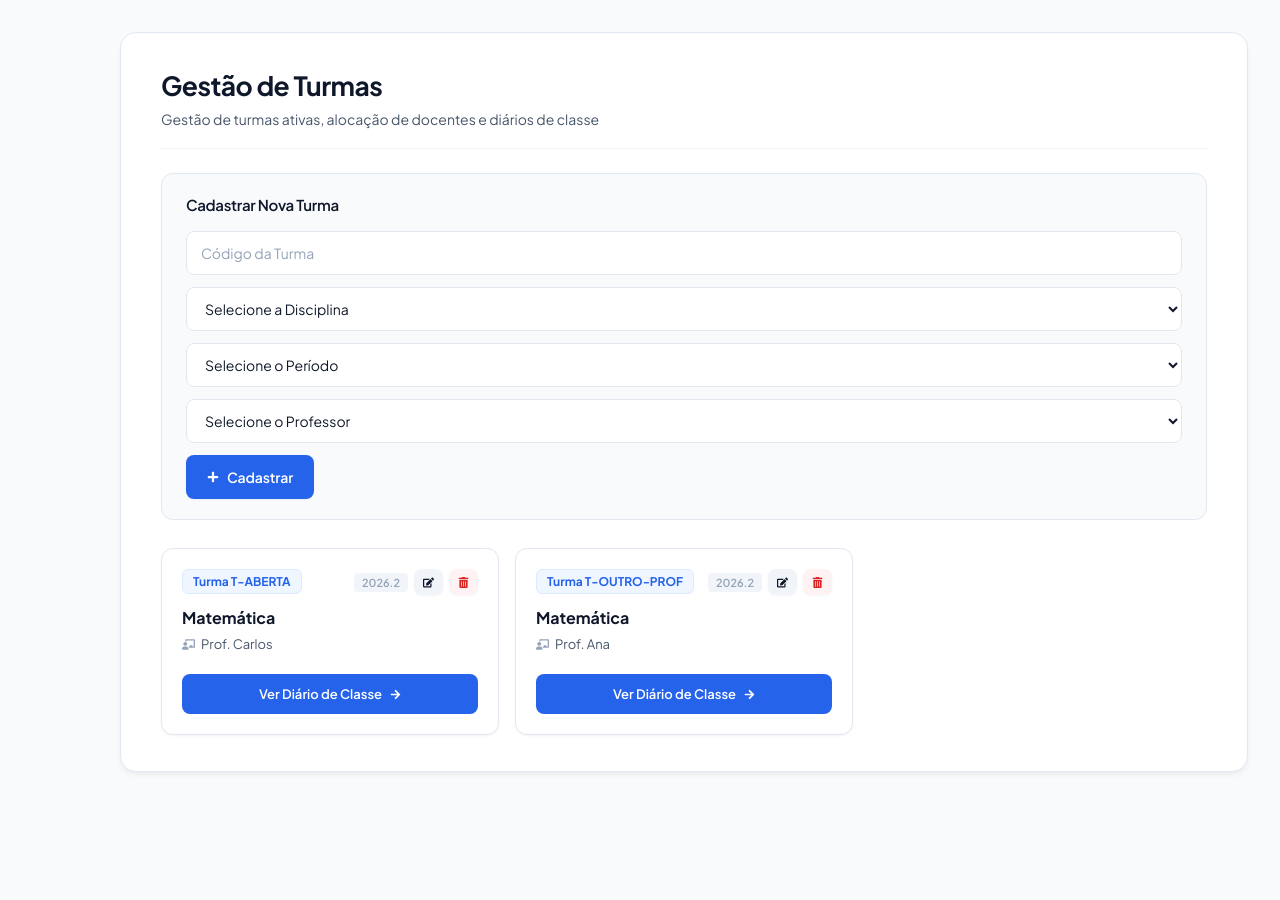
Scenario: Turmas Page › visão ADMIN: deve permitir editar e excluir uma turma existente
Expected: the text "Turma T-ABERTA" is shown, 182,569 -> 302,594
// Editar turma T-ABERTA
Click the button named "Editar turma T-ABERTA" at x=428, y=582, box 414,569 -> 443,595
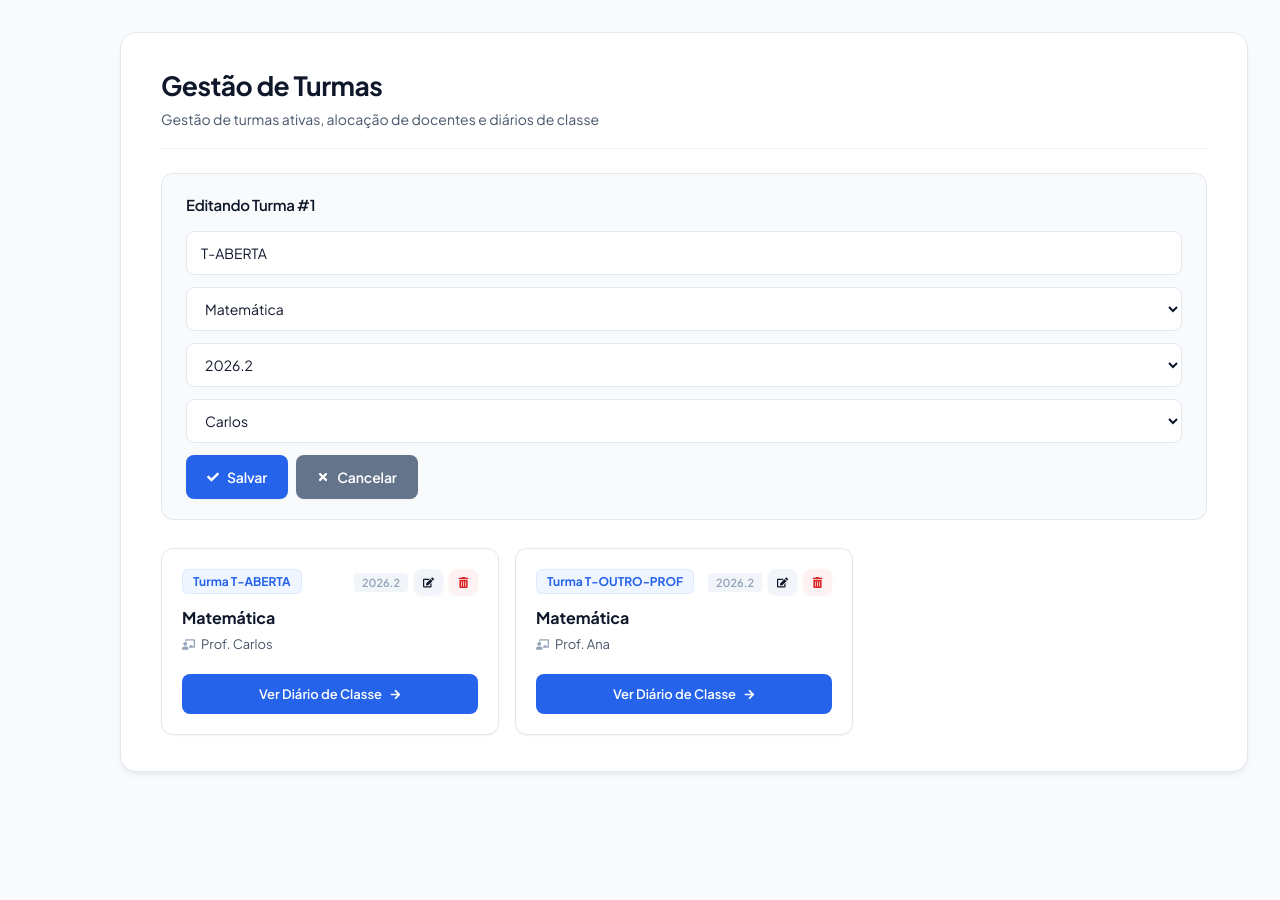
Expected: the heading "Editando Turma #1" is shown, 186,195 -> 315,214
Select "Ana" in the dropdown named "Professor da Turma" at x=684, y=421, box 186,399 -> 1182,443
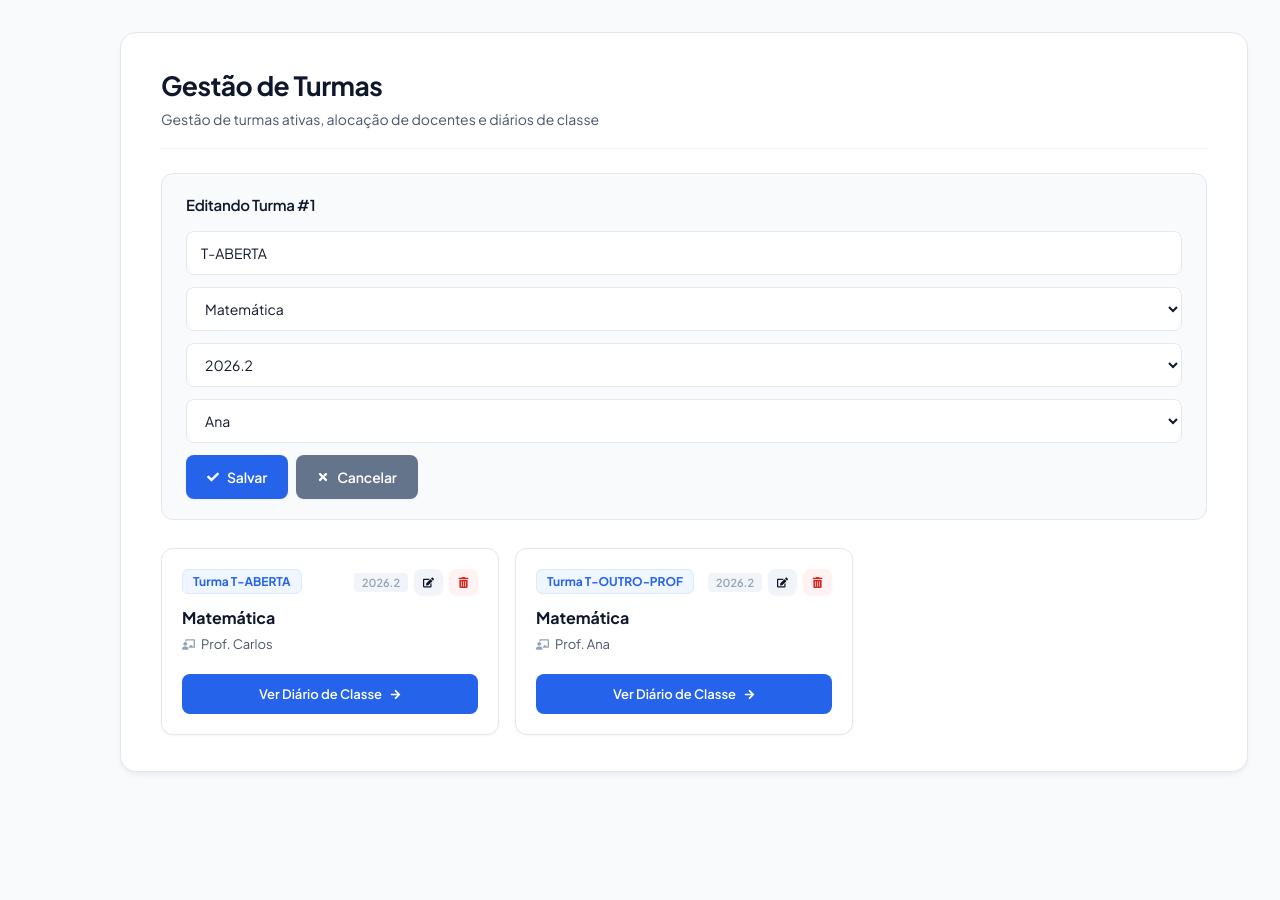
Click the button "Salvar" at x=237, y=477, box 186,455 -> 288,499
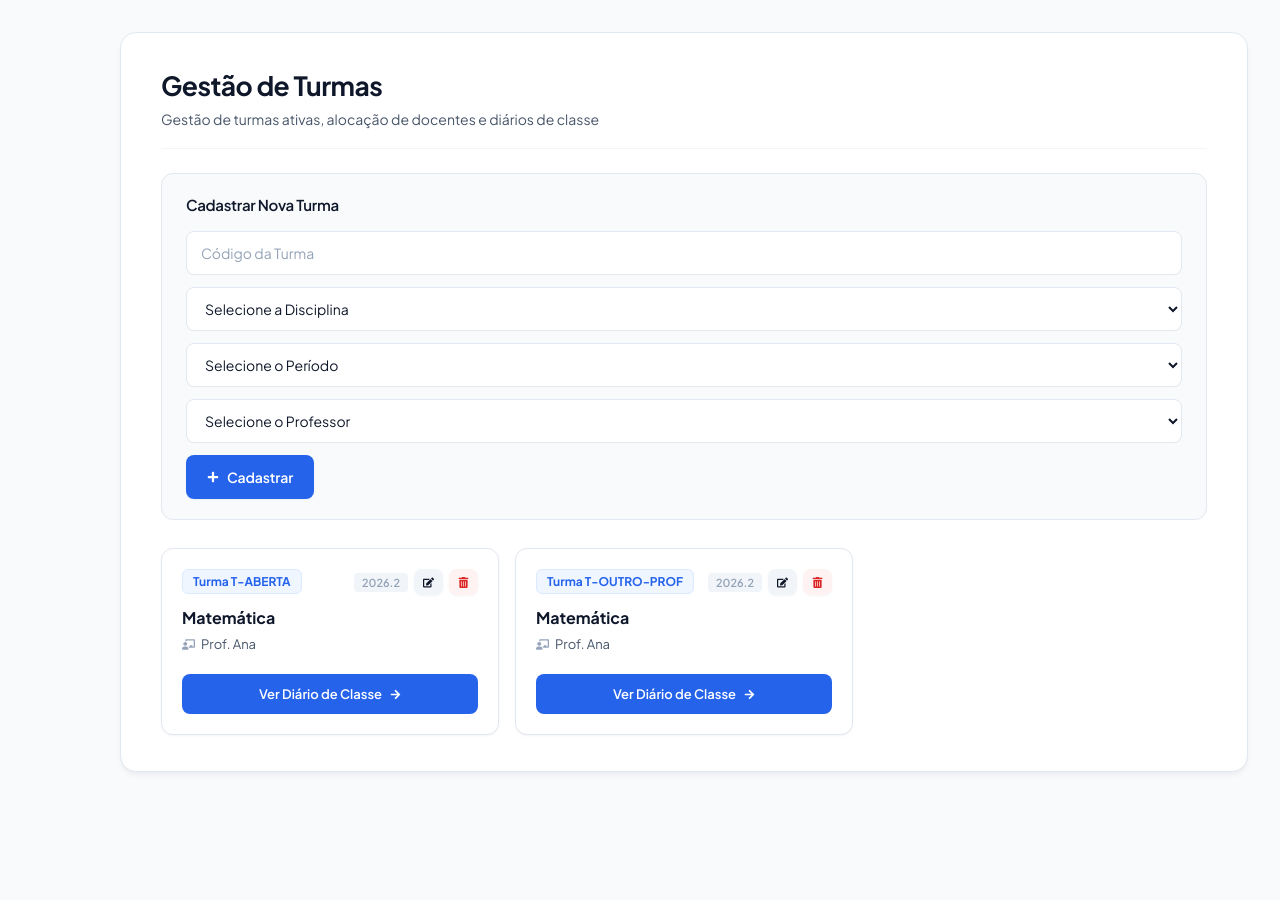
// Excluir turma T-ABERTA
Click the button named "Excluir turma T-ABERTA" at x=464, y=582, box 449,569 -> 478,595
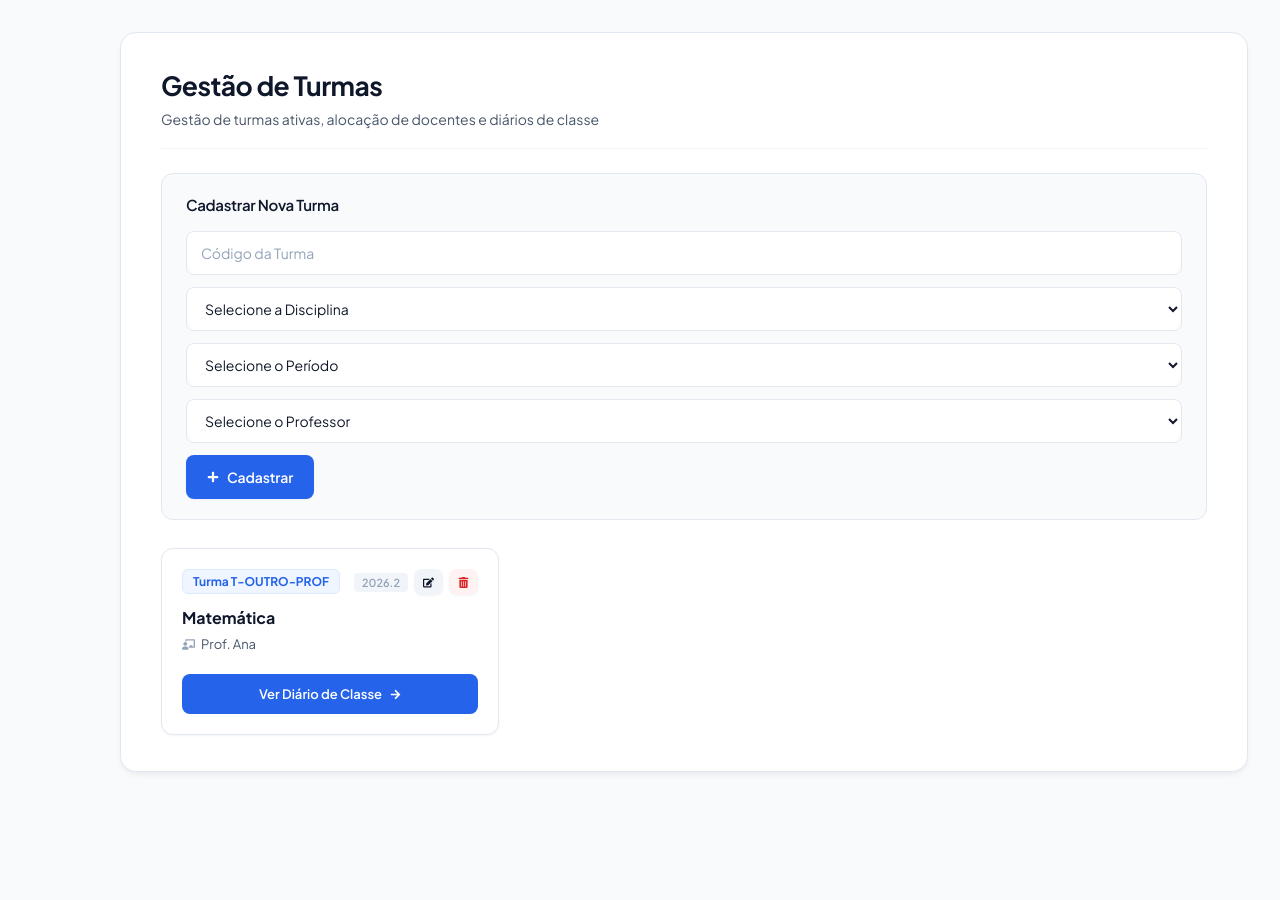
Expected: the text "Turma T-ABERTA" is gone
